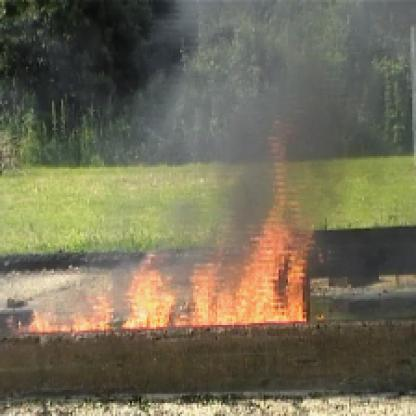Fire: (174, 119, 318, 329), (24, 251, 169, 336)
Smoke: (189, 2, 405, 156)
